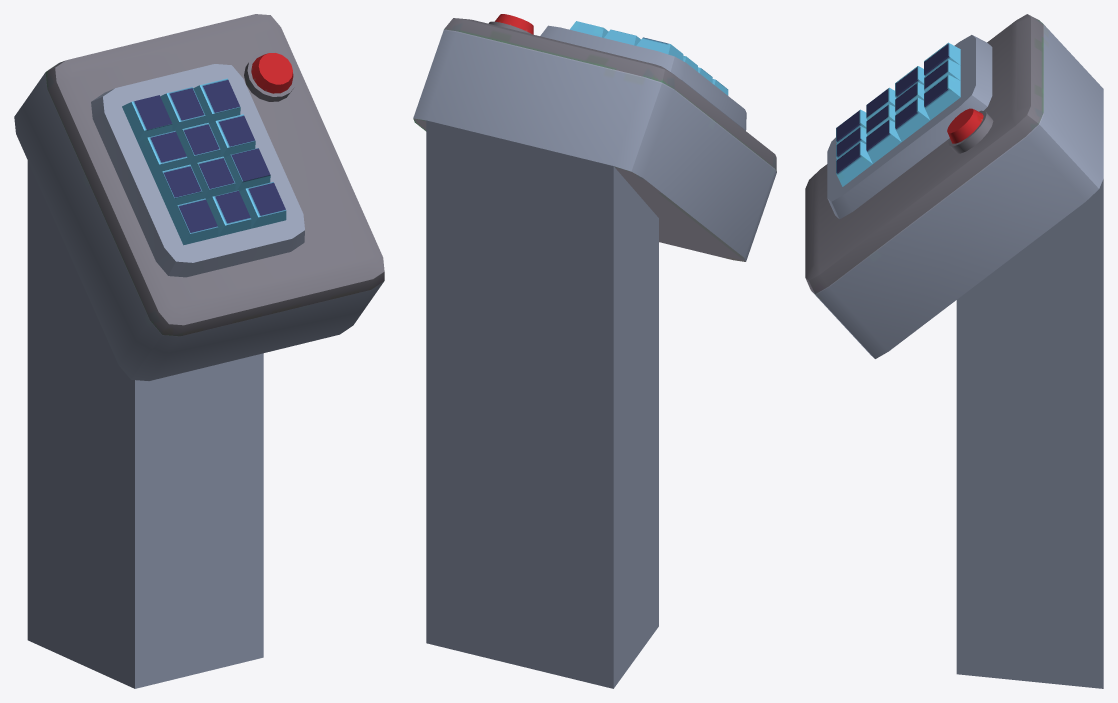
Rendered from Turret_Control.fbx.
The picture shows the model from 3 angles, left to right: view 1: azimuth 30°, elevation 25°; view 2: azimuth 150°, elevation 25°; view 3: azimuth 270°, elevation 25°; orthographic projection. The views are drawn at different scales.
Visible parts, largest first — view 1: SM_CodelockBox01_LOD0.mo; view 2: SM_CodelockBox01_LOD0.mo; view 3: SM_CodelockBox01_LOD0.mo.
Boxes of the visible parts, bbox=[...] form: SM_CodelockBox01_LOD0.mo: bbox=[14, 14, 384, 688]; SM_CodelockBox01_LOD0.mo: bbox=[413, 14, 776, 688]; SM_CodelockBox01_LOD0.mo: bbox=[805, 14, 1103, 688].
Size of the model in its own units: 27.6 by 68.81 by 31.94.
Materials: 1 (1 with a texture image).
